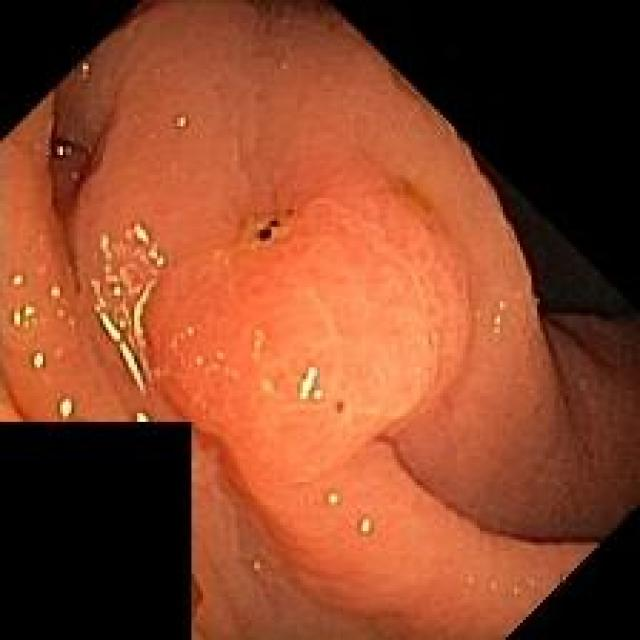Polyps: (1, 3, 640, 640), (156, 176, 471, 500)
